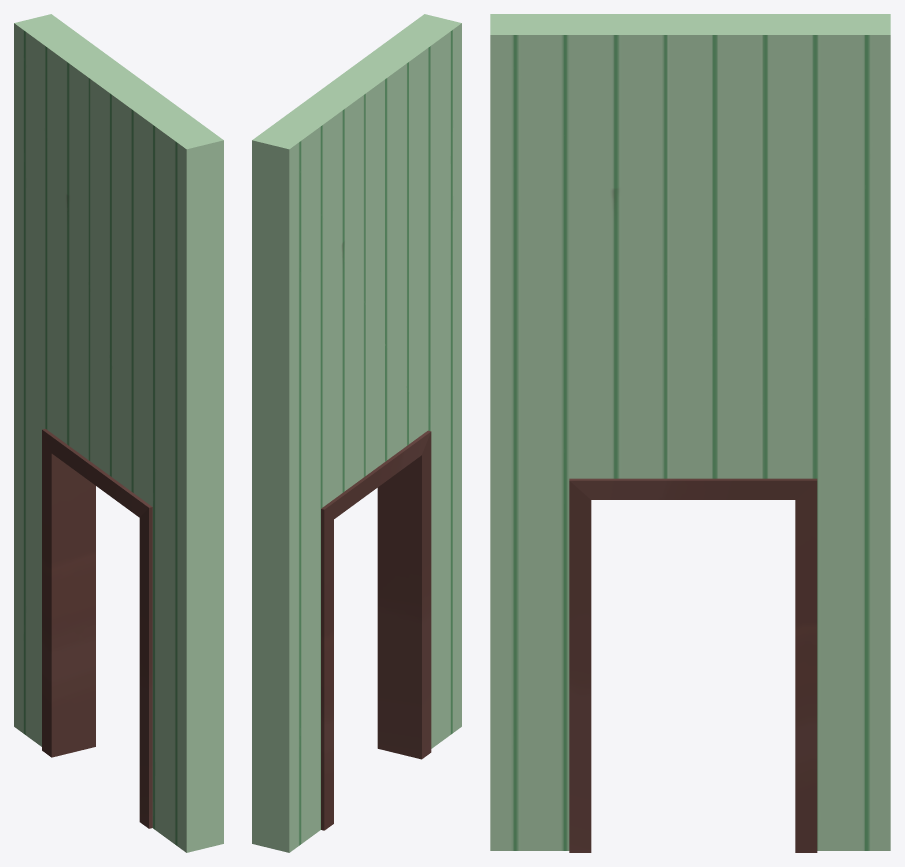
Rendered from inDoor.fbx.
The picture shows the model from 3 angles, left to right: view 1: azimuth 30°, elevation 25°; view 2: azimuth 150°, elevation 25°; view 3: azimuth 270°, elevation 25°; orthographic projection. The views are drawn at different scales.
Parts seen in each view (by area): view 1: inDoor; view 2: inDoor; view 3: inDoor.
Part boxes in pixels (x1=…): inDoor: x1=14, y1=14, x2=223, y2=852; inDoor: x1=252, y1=14, x2=461, y2=852; inDoor: x1=490, y1=14, x2=890, y2=852.
Bounding box in the file's own units: 0.2966 × 4.5 × 2.
